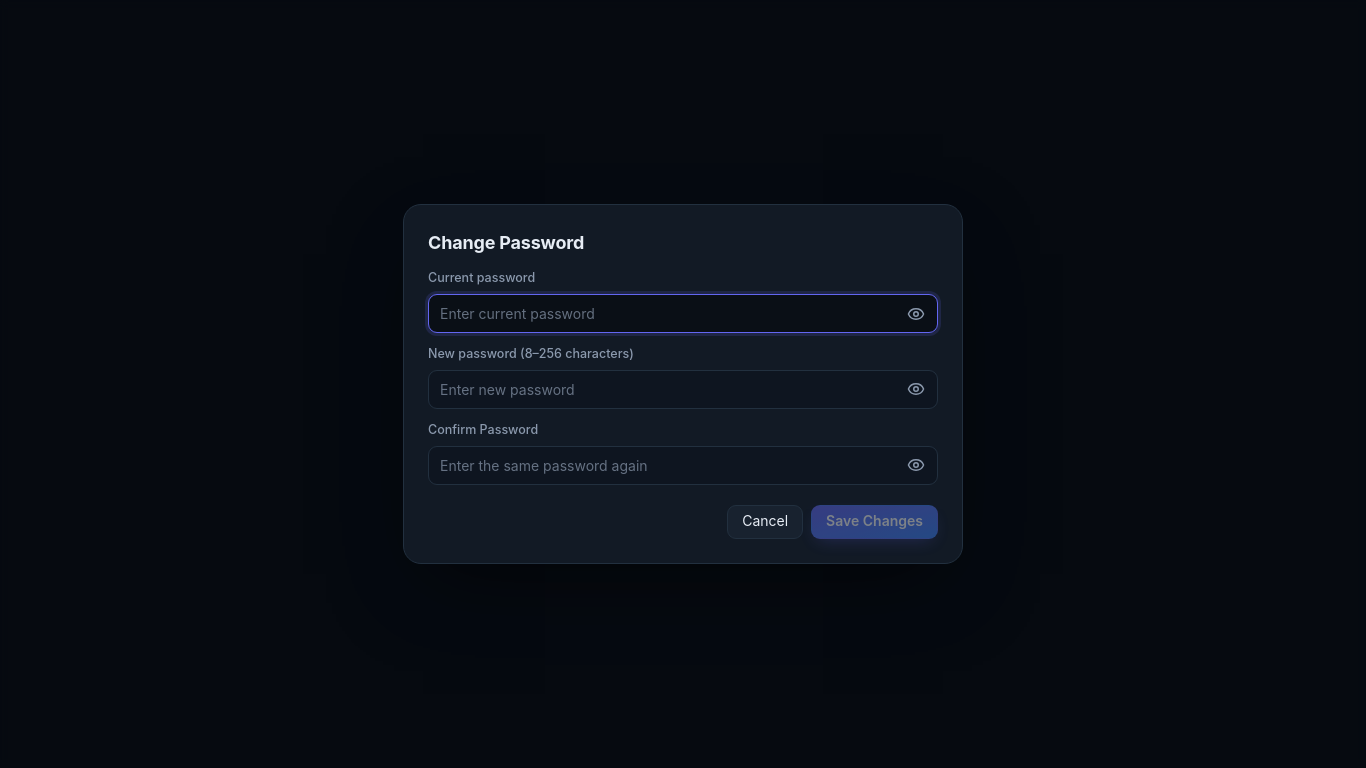
Test: password dialog › shows a real-time mismatch and prevents submission
This screenshot has width=1366, height=768.
Type "old-secret" into the password field labelled "Current password".
click(683, 314); type("old-secret")  # box [428,294,938,333]
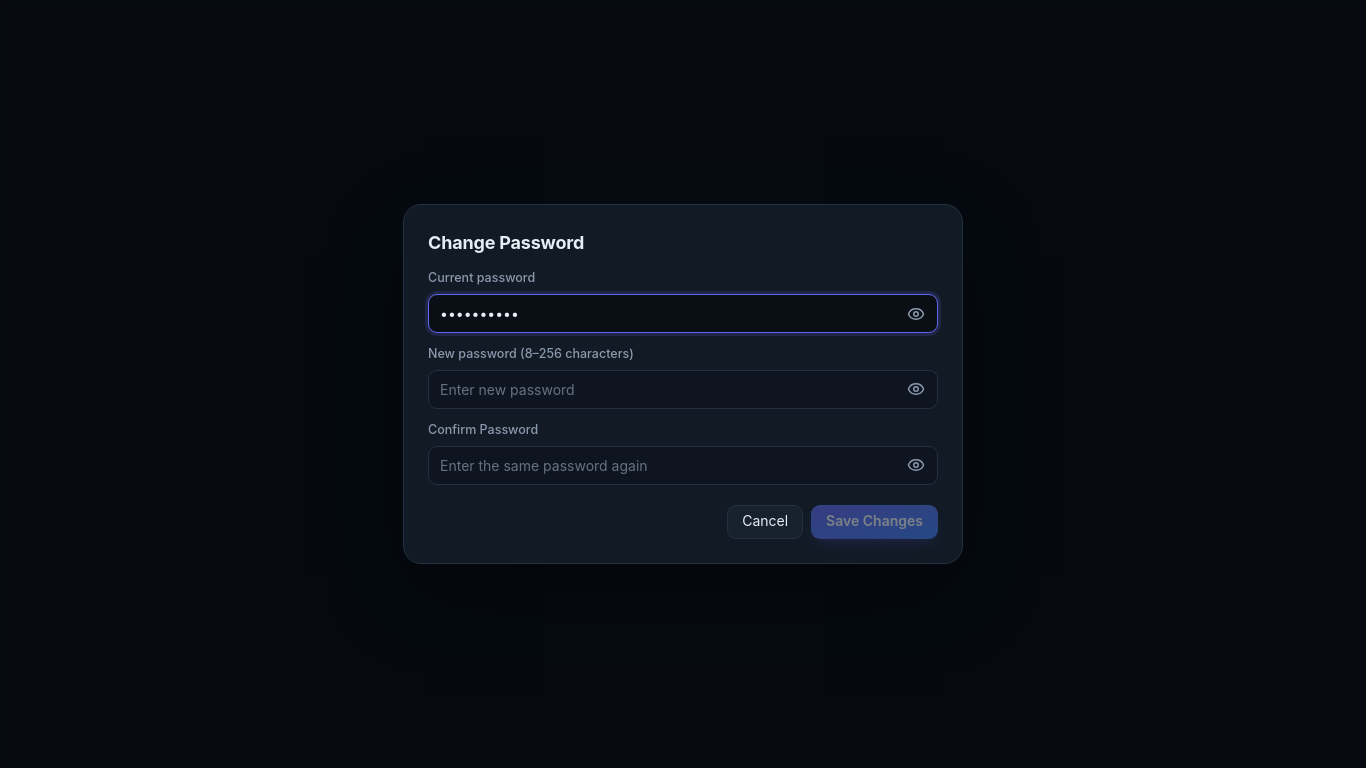
Type "new-secret-123" into the password field labelled "New password (8–256 characters)".
click(683, 389); type("new-secret-123")  # box [428,370,938,409]
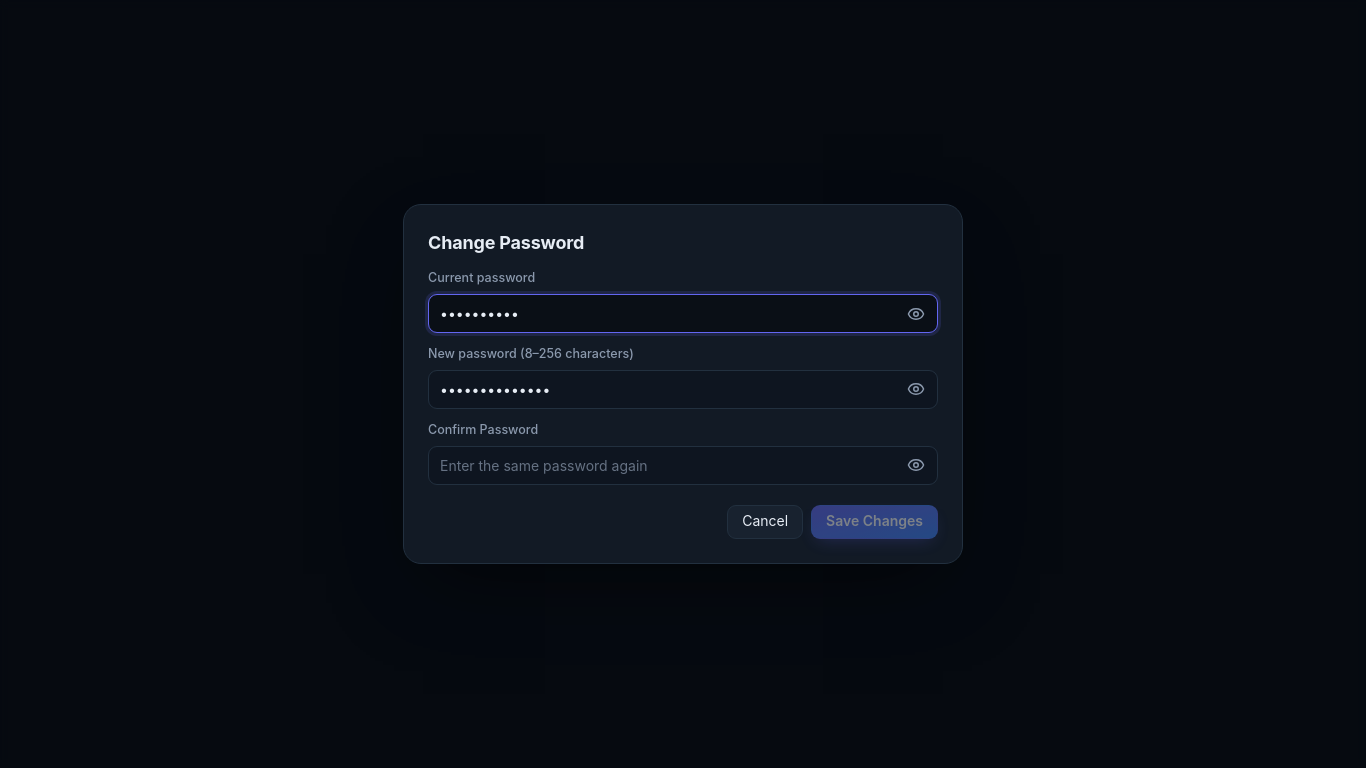
Type "other-secret-123" into the password field labelled "Confirm Password".
click(683, 465); type("other-secret-123")  # box [428,446,938,485]
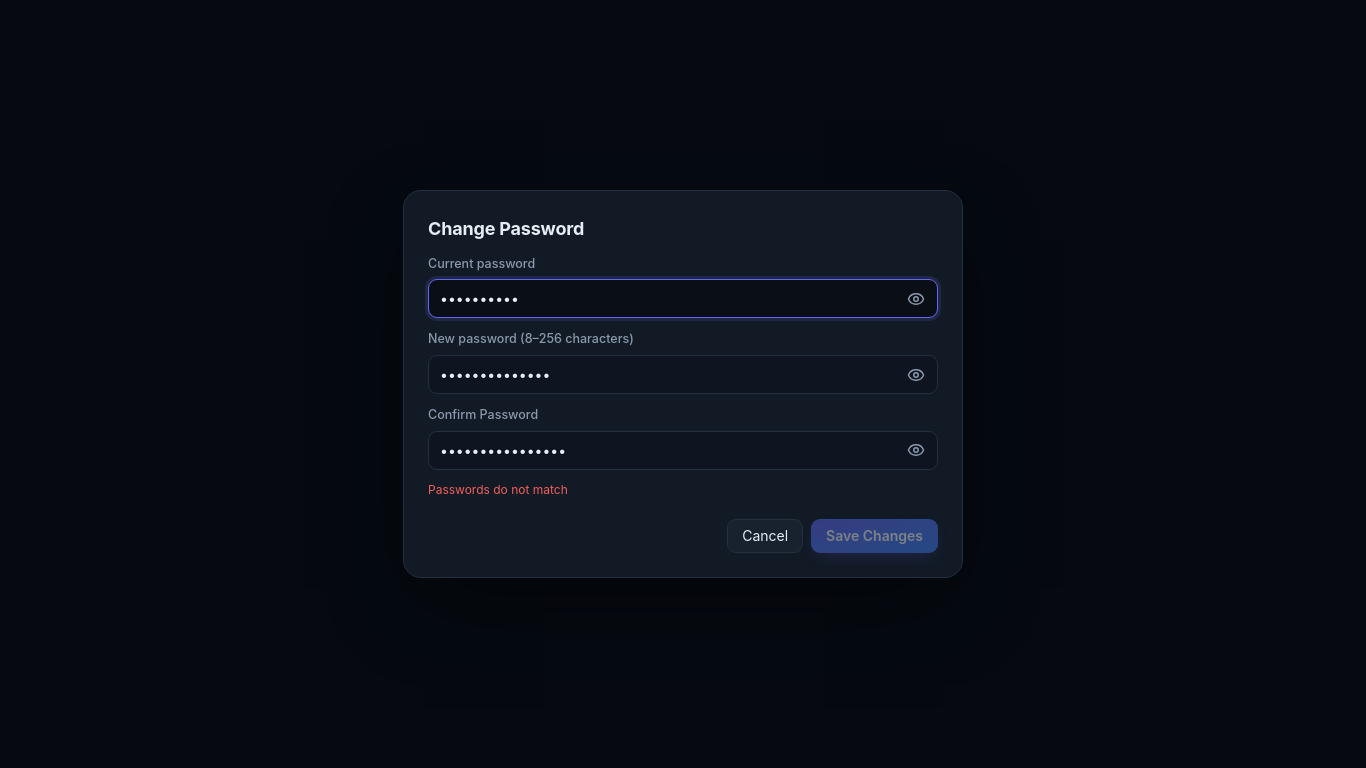
expect the button "Save Changes" is disabled: met, box [811,519,938,553]
expect the text "Passwords do not match" is shown: met, box [428,482,568,497]
